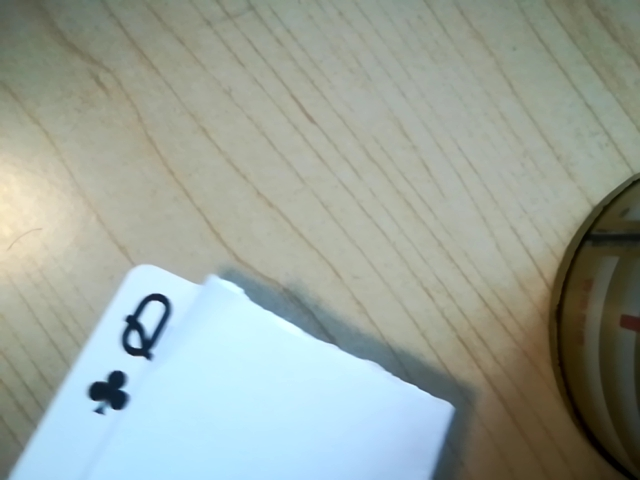mh q: (84, 286, 185, 420)
